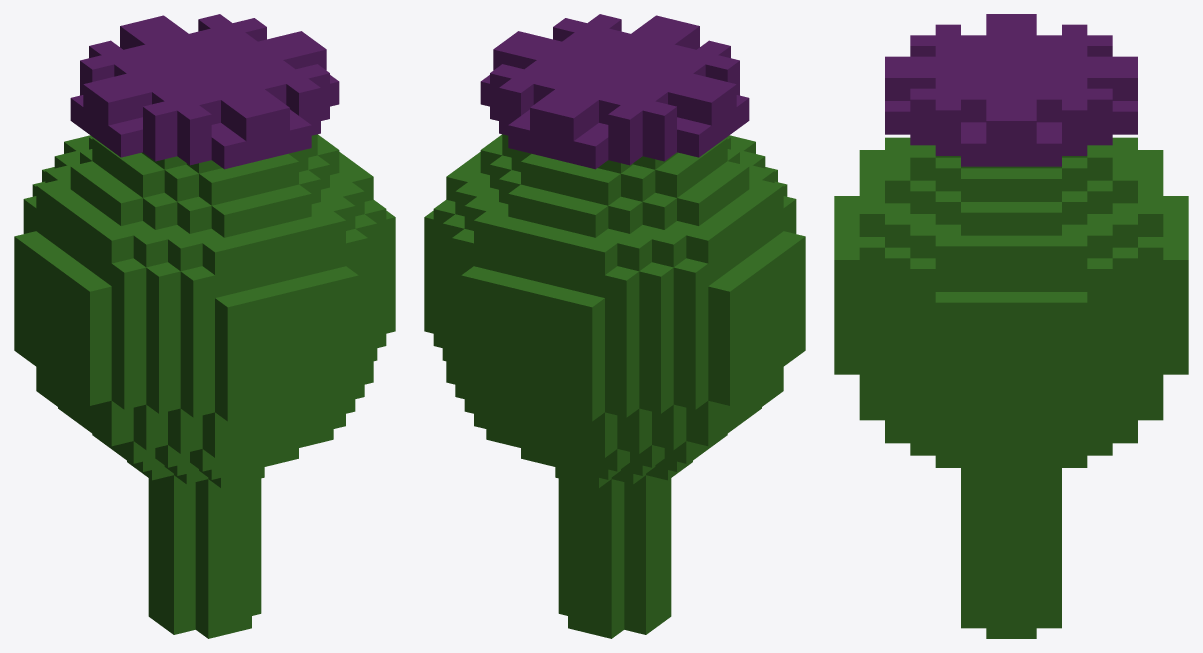
The model's file is poppy_bud.glb.
3 views of the same model, side by side, from view 1: azimuth 30°, elevation 25°; view 2: azimuth 150°, elevation 25°; view 3: azimuth 270°, elevation 25° (orthographic).
Visible parts, largest first — view 1: poppy_bud:compound; view 2: poppy_bud:compound; view 3: poppy_bud:compound.
Part boxes in pixels (x1,y1,x2,y2): poppy_bud:compound: (14,14,395,638); poppy_bud:compound: (424,14,805,638); poppy_bud:compound: (834,14,1188,638).
Size of the model in its own units: 0.028 by 0.048 by 0.028.
